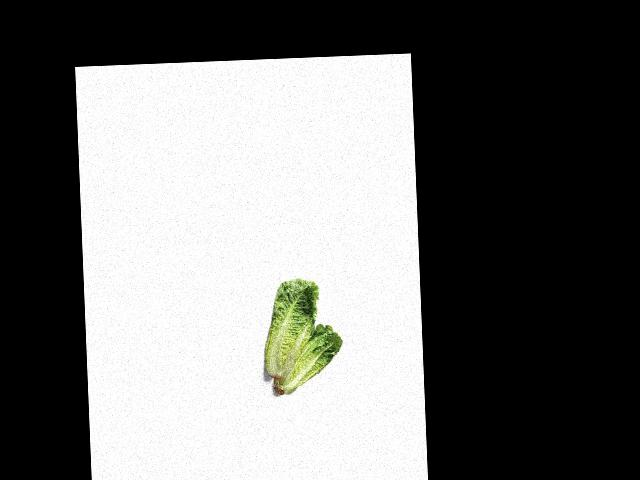lettuce: (259, 275, 342, 393)
